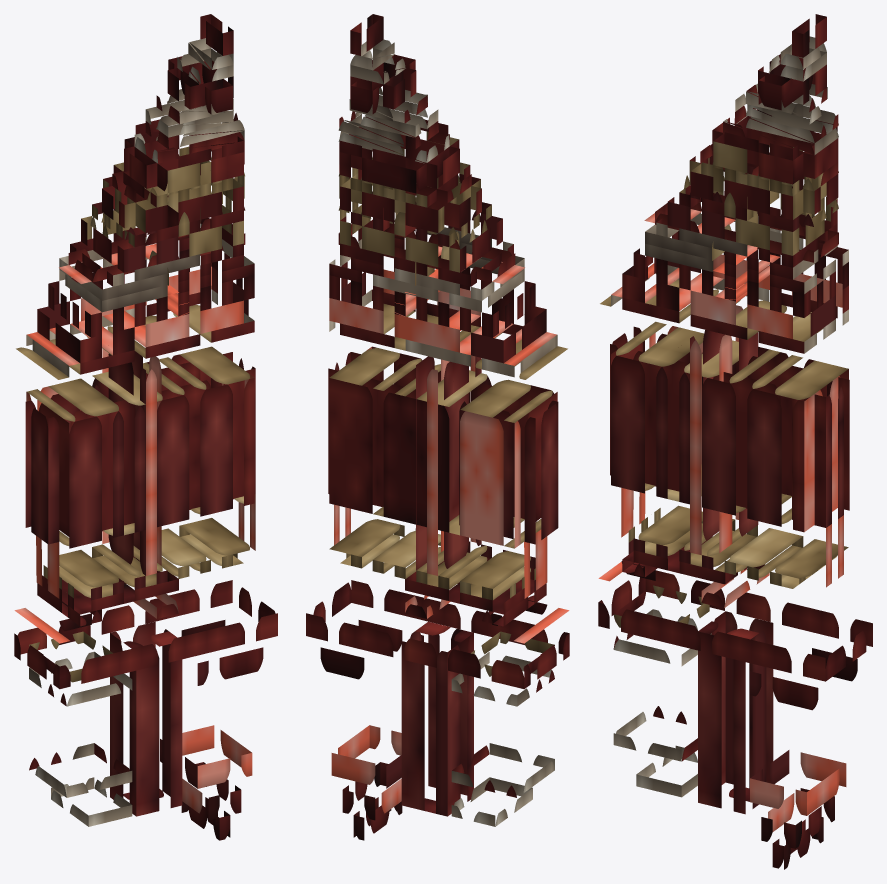
File: fang_of_the_titan.obj
3 renders of one model, left to right at view 1: azimuth 30°, elevation 25°; view 2: azimuth 150°, elevation 25°; view 3: azimuth 330°, elevation 25°, orthographic. The views are drawn at different scales.
Visible parts, largest first — view 1: lit, fire; view 2: lit, fire; view 3: lit, fire.
Boxes of the visible parts, <box> form: lit: <box>14,14,277,840</box>; fire: <box>102,187,200,618</box>; lit: <box>306,14,569,840</box>; fire: <box>383,208,481,618</box>; lit: <box>598,14,872,869</box>; fire: <box>690,166,779,608</box>.
Size of the model in its own units: 0.6562 by 2.19 by 0.2259.
